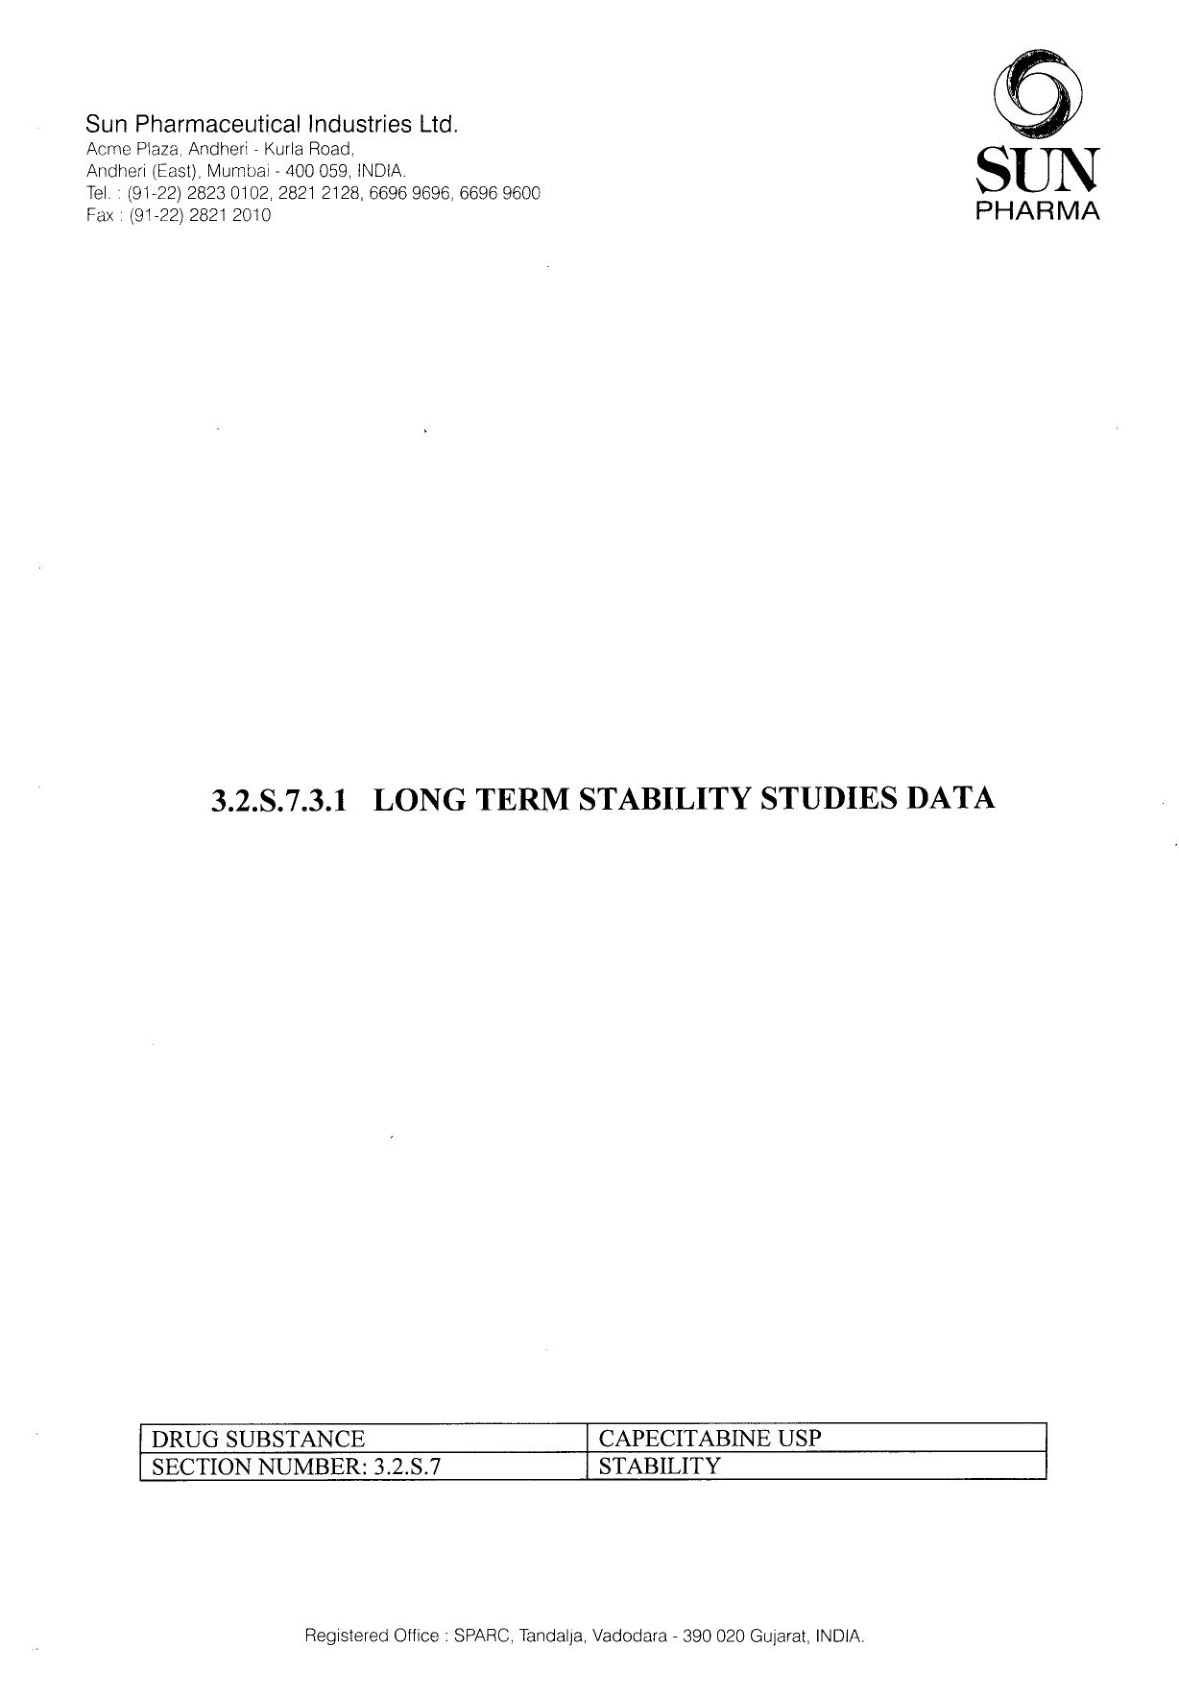full_lined: (137, 1422, 1049, 1482)
